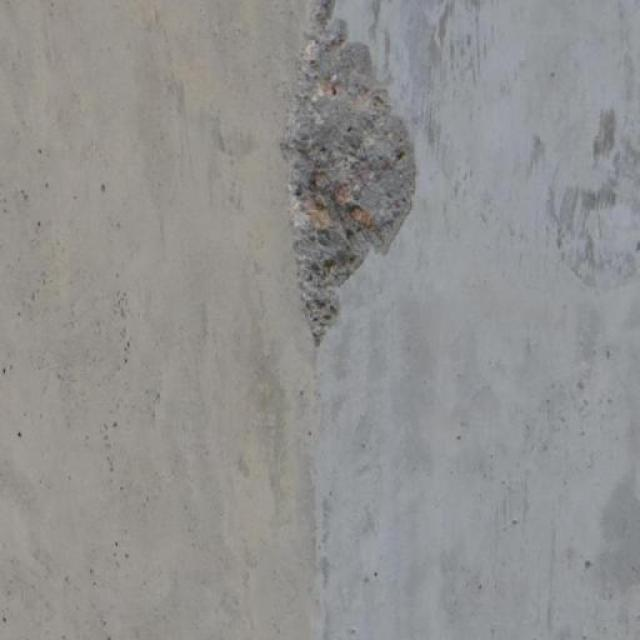D10: (282, 0, 418, 342)
